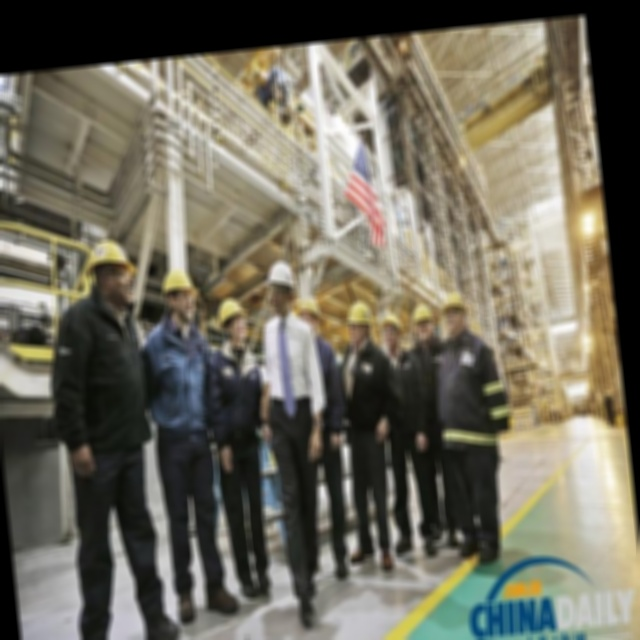Con_Casco: (162, 269, 201, 328), (264, 260, 299, 314), (216, 296, 249, 340)
Sin_Chaleco: (259, 315, 325, 419)
